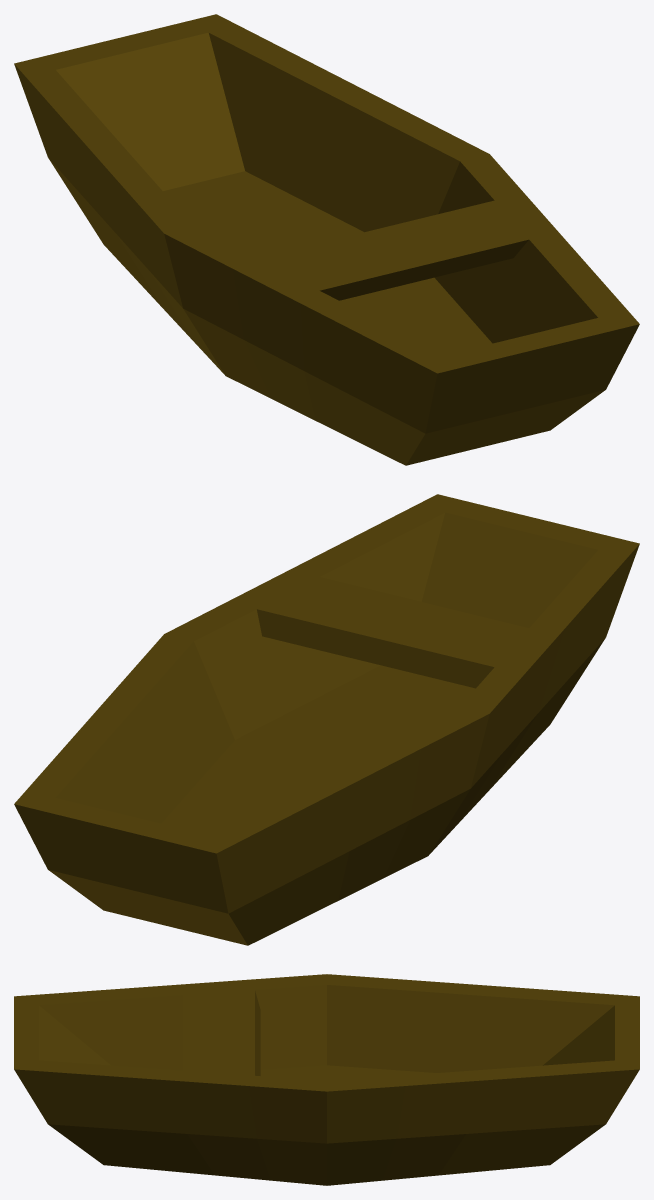
File: barque.fbx
3 renders of one model, top to bottom at view 1: azimuth 30°, elevation 25°; view 2: azimuth 150°, elevation 25°; view 3: azimuth 270°, elevation 25°, orthographic. The views are drawn at different scales.
Visible parts, largest first — view 1: Cube.003; view 2: Cube.003; view 3: Cube.003.
Boxes of the visible parts, x1=… form: Cube.003: x1=14, y1=14, x2=639, y2=465; Cube.003: x1=14, y1=494, x2=639, y2=945; Cube.003: x1=14, y1=974, x2=639, y2=1185.
Size of the model in its own units: 238 by 110 by 535.
